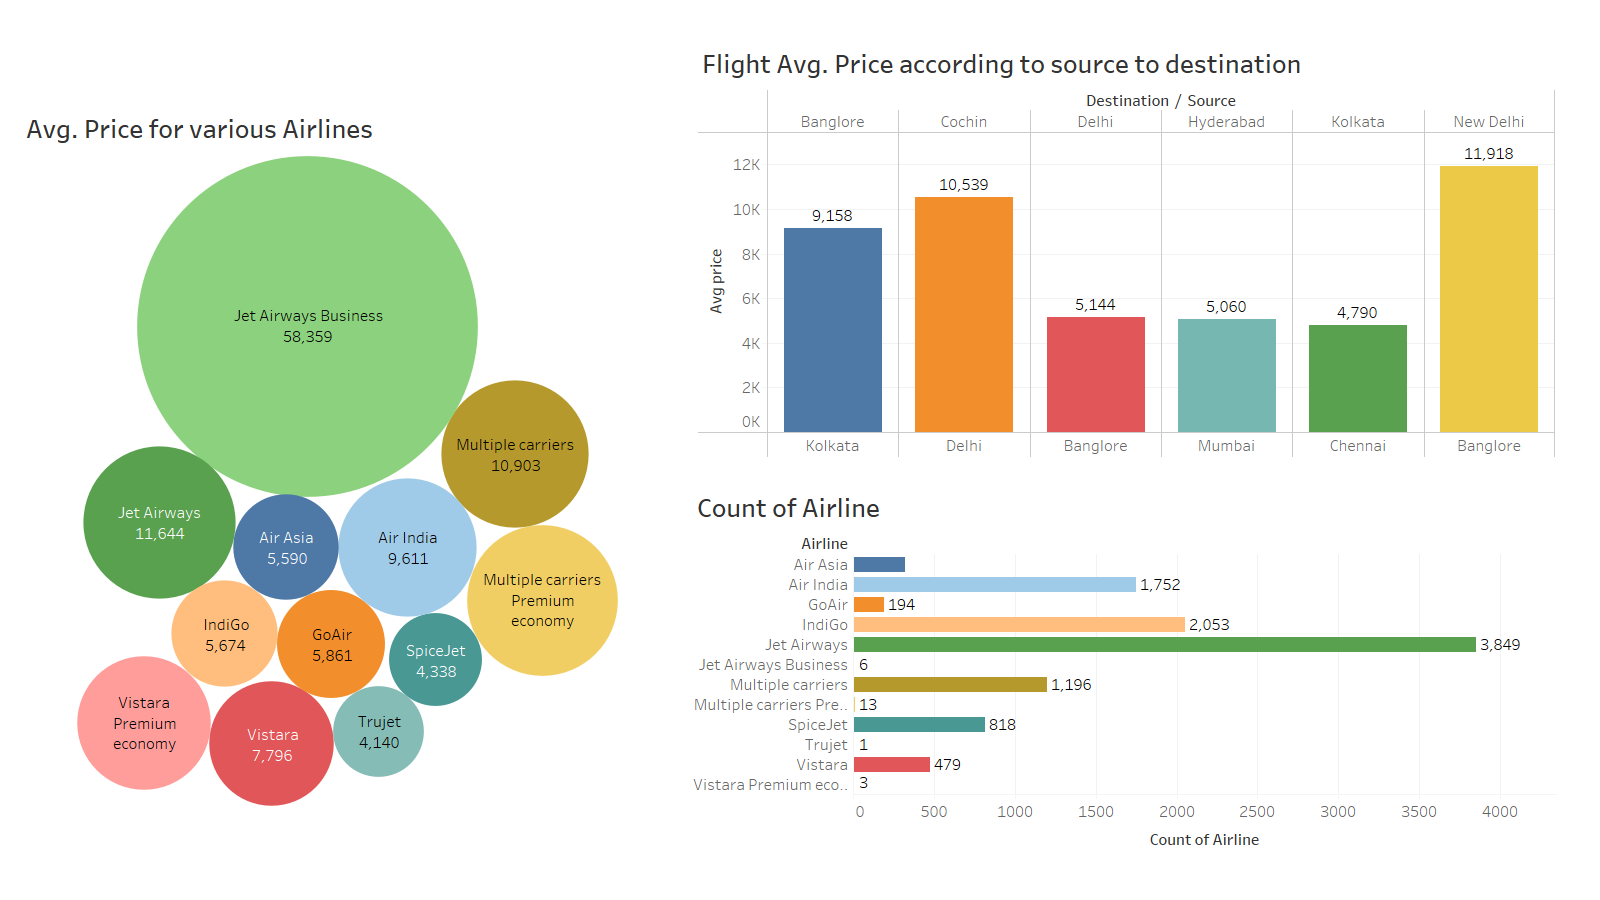

Layout of this report page (visuals, bound fields, positions):
{"tool":"tableau","page":{"name":"Dashboard 2","canvas":[1600,900],"ordinal":1},"visuals":[{"type":"worksheet","title":"Sheet 6","mark":"Automatic","rows":["Price"],"cols":["Destination","Source"],"box":[698,40,858,418]},{"type":"worksheet","title":"Sheet 8","mark":"Circle","box":[22,105,651,719]},{"type":"worksheet","title":"Sheet 9","mark":"Automatic","rows":["Airline"],"cols":["Airline"],"box":[693,484,863,397]}]}

Visuals, with their boxes in screenshot pixels (x1, y1, x2, y2), scaled from the page's 1600x900 canvas onto the 1600x900 screenshot:
"Sheet 6" worksheet: x1=698 y1=40 x2=1556 y2=458
"Sheet 8" worksheet (Circle marks): x1=22 y1=105 x2=673 y2=824
"Sheet 9" worksheet: x1=693 y1=484 x2=1556 y2=881
